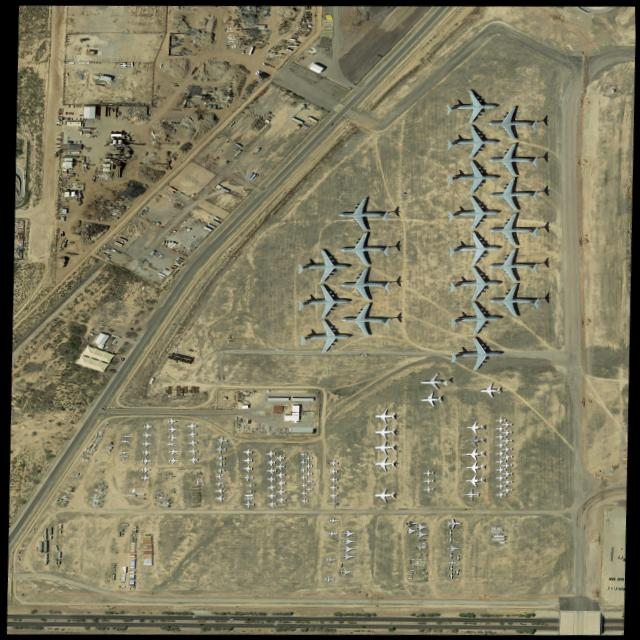large-vehicle: (81, 128, 92, 130), (190, 488, 198, 490), (191, 495, 199, 497), (190, 504, 198, 506), (191, 485, 198, 487), (191, 491, 198, 493), (191, 493, 198, 495), (191, 500, 198, 502), (190, 616, 198, 617), (191, 498, 198, 499)
plane: (483, 105, 538, 141), (336, 267, 390, 303), (335, 232, 389, 268), (485, 213, 539, 249), (484, 177, 538, 213), (483, 142, 537, 178), (294, 284, 349, 319), (295, 249, 350, 284), (486, 248, 539, 284), (448, 336, 502, 371), (485, 283, 539, 318), (444, 124, 498, 159), (338, 302, 390, 338), (335, 197, 388, 232), (447, 231, 501, 265), (297, 319, 349, 354), (449, 301, 501, 336), (446, 196, 499, 230), (445, 160, 498, 194), (444, 89, 497, 123), (448, 266, 500, 300), (418, 372, 447, 390), (371, 409, 394, 424), (418, 392, 440, 407), (371, 456, 393, 471), (478, 383, 499, 398), (372, 440, 393, 455), (371, 488, 393, 502), (372, 425, 393, 439), (463, 434, 482, 447), (463, 474, 482, 487), (463, 421, 482, 433), (463, 448, 482, 460), (462, 488, 479, 501), (464, 461, 482, 473), (446, 518, 463, 528), (115, 61, 133, 68), (264, 483, 276, 492), (215, 435, 227, 444), (240, 447, 252, 456), (264, 449, 275, 458), (403, 520, 417, 527), (413, 523, 427, 530), (341, 538, 355, 545), (340, 553, 354, 560), (139, 457, 151, 465), (342, 530, 355, 537), (324, 556, 337, 563), (186, 430, 196, 439), (264, 475, 275, 483), (265, 492, 276, 500), (265, 500, 276, 508), (273, 479, 284, 487), (273, 471, 284, 479), (273, 454, 284, 462), (264, 458, 275, 466), (326, 500, 337, 508), (326, 476, 337, 484), (186, 439, 197, 447), (186, 447, 197, 455), (186, 456, 197, 464), (242, 500, 253, 508), (140, 448, 151, 456), (213, 487, 225, 494), (212, 495, 224, 502), (493, 466, 505, 473), (499, 462, 511, 469), (493, 458, 505, 465), (499, 454, 511, 461), (493, 450, 505, 457), (499, 437, 511, 444), (499, 429, 511, 436), (499, 421, 511, 428), (493, 417, 505, 424), (404, 527, 416, 534), (413, 531, 427, 537), (446, 545, 460, 551), (341, 546, 355, 552), (274, 496, 284, 504), (326, 492, 336, 500), (265, 467, 275, 475), (215, 445, 225, 453), (166, 417, 176, 425), (242, 473, 252, 481), (241, 456, 251, 464), (327, 459, 337, 467), (339, 569, 352, 575), (274, 488, 285, 495), (273, 463, 284, 470), (167, 457, 178, 464), (167, 448, 178, 455), (166, 434, 177, 441), (421, 486, 432, 493), (499, 446, 510, 453), (493, 433, 504, 440), (493, 425, 504, 432), (140, 440, 151, 447), (167, 425, 176, 433), (421, 478, 433, 484), (499, 487, 511, 493), (499, 479, 511, 485), (492, 475, 504, 481), (327, 518, 339, 524), (326, 531, 338, 537), (326, 484, 336, 491), (142, 423, 152, 430), (185, 422, 195, 429), (241, 465, 251, 472), (327, 468, 337, 475), (141, 432, 151, 439), (140, 474, 150, 481), (140, 466, 150, 473), (421, 470, 432, 476), (494, 491, 505, 497), (493, 483, 504, 489), (499, 471, 510, 477), (493, 442, 504, 448), (323, 576, 334, 582), (451, 568, 460, 575), (213, 473, 223, 479), (213, 481, 223, 487), (445, 536, 453, 543), (445, 529, 453, 536), (446, 560, 457, 565), (118, 450, 129, 455), (298, 466, 307, 472), (214, 467, 223, 473), (214, 462, 224, 467), (120, 439, 130, 444), (120, 433, 130, 438), (446, 572, 453, 579), (445, 552, 452, 559), (304, 486, 312, 492), (299, 490, 307, 496), (298, 458, 306, 464), (452, 554, 460, 560), (244, 482, 253, 487), (299, 482, 306, 488), (305, 478, 312, 484), (299, 474, 306, 480), (304, 470, 311, 476), (304, 462, 311, 468), (304, 455, 311, 461), (298, 451, 305, 457), (446, 565, 453, 571), (299, 498, 307, 503), (214, 456, 224, 460), (244, 489, 254, 493)
small-vehicle: (175, 258, 181, 262), (63, 137, 69, 140), (142, 260, 146, 264), (98, 324, 103, 327), (99, 408, 104, 411), (269, 114, 274, 117), (111, 342, 115, 345), (223, 161, 227, 164), (304, 108, 308, 111), (226, 616, 231, 618), (54, 143, 59, 145), (54, 146, 59, 148), (81, 171, 86, 173), (224, 160, 229, 162), (121, 358, 124, 361), (118, 357, 121, 360), (70, 112, 73, 115), (329, 123, 332, 126), (116, 336, 120, 338), (64, 111, 66, 115), (61, 116, 63, 120), (57, 111, 61, 113), (128, 329, 132, 331), (129, 327, 133, 329), (272, 623, 276, 625), (228, 618, 232, 620), (79, 131, 81, 135), (113, 341, 117, 343), (55, 121, 59, 123), (56, 134, 60, 136), (97, 100, 101, 102), (104, 100, 108, 102), (78, 118, 81, 120), (67, 105, 69, 108), (66, 112, 68, 115), (68, 111, 70, 114), (78, 114, 81, 116), (74, 117, 76, 120), (57, 120, 60, 122), (67, 117, 69, 120), (65, 117, 67, 120), (164, 241, 166, 244), (75, 174, 77, 177), (65, 140, 67, 143), (68, 140, 70, 143), (70, 140, 72, 143), (101, 100, 104, 102), (295, 624, 300, 625), (245, 619, 250, 620), (198, 624, 203, 625), (71, 105, 73, 107), (69, 118, 71, 120), (56, 110, 60, 111), (57, 113, 61, 114), (56, 116, 60, 117), (56, 118, 60, 119), (606, 626, 610, 627), (372, 605, 376, 606), (202, 618, 206, 619), (179, 625, 183, 626), (58, 119, 60, 121), (55, 138, 59, 139), (55, 139, 59, 140), (74, 141, 76, 143), (79, 112, 82, 113), (57, 108, 60, 109), (57, 114, 60, 115), (361, 626, 364, 627), (56, 133, 59, 134), (78, 140, 79, 143), (63, 117, 64, 119)
